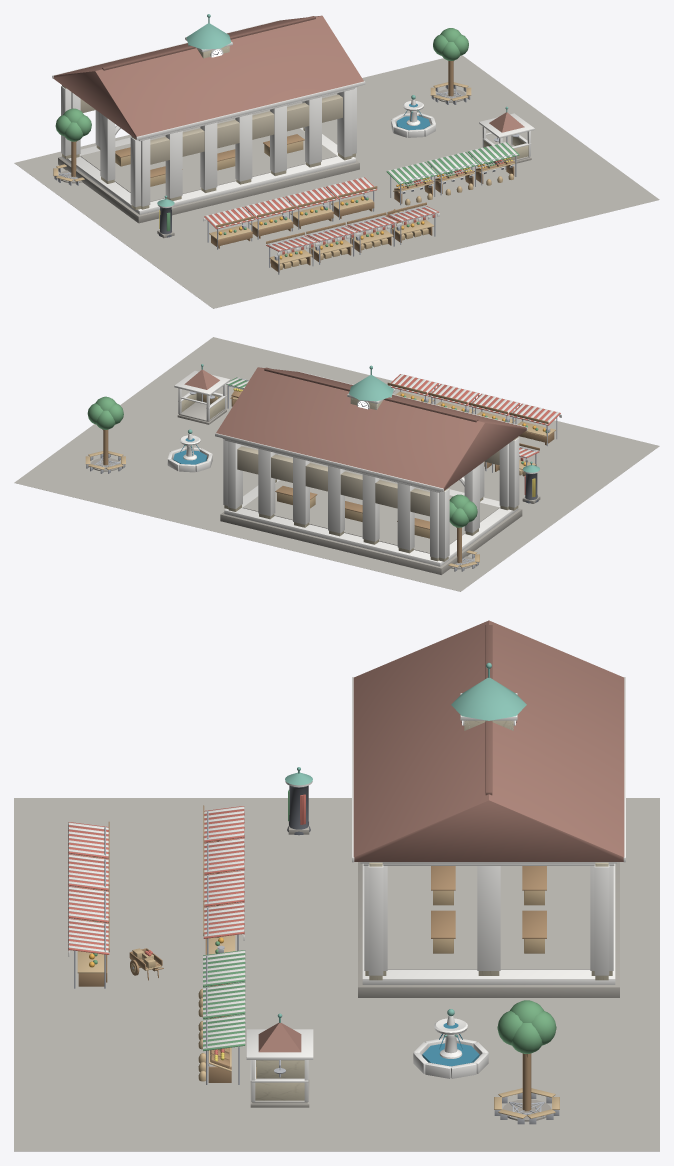
The model's file is th48_marktplatz.glb.
3 renders of one model, top to bottom at view 1: azimuth 30°, elevation 25°; view 2: azimuth 150°, elevation 25°; view 3: azimuth 270°, elevation 25°, orthographic. The views are drawn at different scales.
Parts seen in each view (by area): view 1: Cube, Satteldach, Cube.057, Cube.002, Cube.001, Cube.012, Cube.016, Cube.008, Cube.024, Cube.020, Cube.034, Cube.070 (+15 smaller); view 2: Cube, Satteldach, Cube.057, Cube.002, Cube.001, Cube.014, Cube.010, Cube.026, Cube.018, Cube.022, Cube.071, Cube.042 (+19 smaller); view 3: Cube, Satteldach, Cube.057, Cube.001, Cube.002, Cube.040, Cone, Cube.028, Cube.030, Cube.389, Cone.001, Cube.038 (+16 smaller).
Part boxes in pixels (bbox=[...]): Cube: bbox=[14, 55, 659, 308]; Satteldach: bbox=[53, 15, 363, 138]; Cube.057: bbox=[80, 109, 337, 201]; Cube.002: bbox=[62, 127, 355, 214]; Cube.001: bbox=[58, 156, 359, 223]; Cube.012: bbox=[200, 122, 217, 189]; Cube.016: bbox=[235, 114, 252, 181]; Cube.008: bbox=[165, 131, 182, 198]; Cube.024: bbox=[305, 97, 321, 164]; Cube.020: bbox=[270, 105, 286, 172]; Cube.034: bbox=[100, 113, 115, 181]; Cube.070: bbox=[136, 81, 365, 140]; Cube: bbox=[14, 337, 659, 591]; Satteldach: bbox=[216, 367, 526, 490]; Cube.057: bbox=[242, 461, 499, 553]; Cube.002: bbox=[224, 479, 518, 566]; Cube.001: bbox=[220, 508, 522, 574]; Cube.014: bbox=[362, 474, 379, 541]; Cube.010: bbox=[397, 483, 414, 550]; Cube.026: bbox=[258, 448, 275, 516]; Cube.018: bbox=[328, 465, 344, 533]; Cube.022: bbox=[293, 457, 309, 524]; Cube.071: bbox=[215, 433, 443, 491]; Cube.042: bbox=[228, 441, 242, 508]; Cube: bbox=[14, 798, 659, 1151]; Satteldach: bbox=[353, 620, 624, 861]; Cube.057: bbox=[387, 866, 590, 969]; Cube.001: bbox=[358, 862, 619, 997]; Cube.002: bbox=[362, 863, 615, 984]; Cube.040: bbox=[477, 866, 500, 970]; Cone: bbox=[451, 678, 526, 720]; Cube.028: bbox=[368, 865, 383, 975]; Cube.030: bbox=[594, 865, 609, 975]; Cube.389: bbox=[246, 1029, 313, 1059]; Cone.001: bbox=[258, 1023, 301, 1052]; Cube.038: bbox=[364, 866, 387, 970].
Size of the model in its own units: 44 by 14.38 by 34.
Materials: 129 (2 with a texture image).
